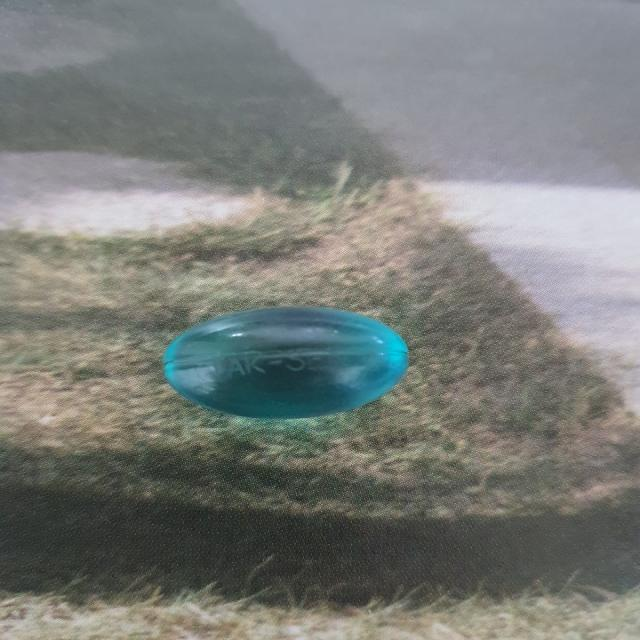pill: (147, 298, 429, 430)
